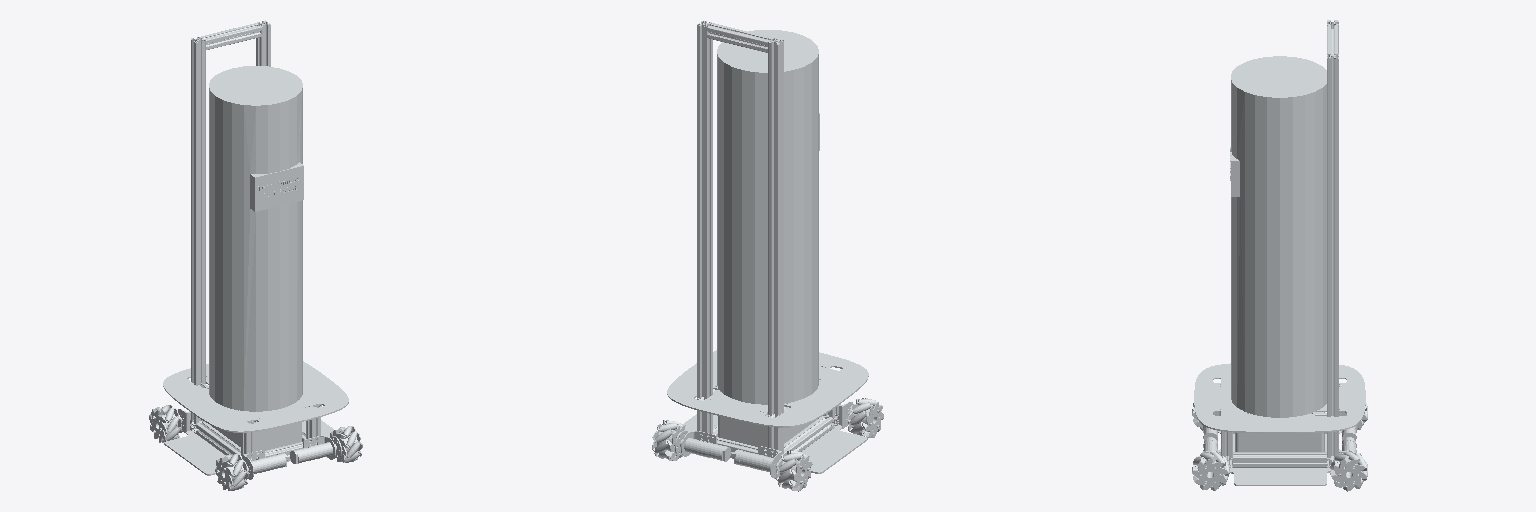
The robot description file, URDF, robot "uv_robot":
<?xml version="1.0" encoding="utf-8"?>
<!-- This URDF was automatically created by SolidWorks to URDF Exporter! Originally created by [author] ([email redacted]) 
     Commit Version: 1.5.1-0-g916b5db  Build Version: 1.5.7152.31018
     For more information, please see http://wiki.ros.org/sw_urdf_exporter -->
<robot
  name="uv_robot">

  <link name="robot_footprint">
  </link> 

  <link
    name="base_link">
    <inertial>
      <origin
        xyz="-2.3463E-06 0.228 -0.0071608"
        rpy="0 0 0" />
      <mass
        value="1" />
      <inertia
        ixx="0.22238"
        ixy="-1.8058E-07"
        ixz="-2.4839E-06"
        iyy="0.099832"
        iyz="-0.0022073"
        izz="0.21419" />
    </inertial>
    <visual>
      <origin
        xyz="0 0 0"
        rpy="0 0 0" />
      <geometry>
        <mesh
          filename="package://uvd_description/meshes/new_base_link.STL" />
      </geometry>
      <material
        name="">
        <color
          rgba="0.89804 0.91765 0.92941 1" />
      </material>
    </visual>
    <collision>
      <origin
        xyz="0 0 0"
        rpy="0 0 0" />
      <geometry>
        <mesh
          filename="package://uvd_description/meshes/new_base_link.STL" />
      </geometry>
    </collision>
  </link>

   <joint name="robot_footprint_joint" type="fixed">
    <parent link="robot_footprint"/>
    <child link="base_link"/>
    <origin xyz="0 0 0" rpy="0 0 0" />
 </joint>
 
  <link
    name="RF_Link">
    <inertial>
      <origin
        xyz="-0.012173 0.0039505 0.026007"
        rpy="0 0 0" />
      <mass
        value="0.1" />
      <inertia
        ixx="0.00012799"
        ixy="-4.0847E-10"
        ixz="1.4585E-10"
        iyy="0.00012799"
        iyz="5.1701E-10"
        izz="0.00019475" />
    </inertial>
    <visual>
      <origin
        xyz="0 0 0"
        rpy="0 0 0" />
      <geometry>
        <mesh
          filename="package://uvd_description/meshes/RF_Link.STL" />
      </geometry>
      <material
        name="">
        <color
          rgba="0.89804 0.91765 0.92941 1" />
      </material>
    </visual>
    <collision>
      <origin
        xyz="0 0 0"
        rpy="0 0 0" />
      <geometry>
        <mesh
          filename="package://uvd_description/meshes/RF_Link.STL" />
      </geometry>
    </collision>
  </link>
  <joint
    name="joint_rf"
    type="fixed">
    <origin
      xyz="-0.148119970352197 -0.162879572443269 0.0458883267180475"
      rpy="-1.5707963267949 0.641104313859877 1.5707963267949" />
    <parent
      link="base_link" />
    <child
      link="RF_Link" />
    <axis
      xyz="0 0 0" />
  </joint>
  <link
    name="LF_Link">
    <inertial>
      <origin
        xyz="-0.012173 0.0039539 0.026009"
        rpy="0 0 0" />
      <mass
        value="0.1" />
      <inertia
        ixx="0.00012799"
        ixy="-4.0494E-10"
        ixz="1.7015E-10"
        iyy="0.00012799"
        iyz="5.1344E-10"
        izz="0.00019475" />
    </inertial>
    <visual>
      <origin
        xyz="0 0 0"
        rpy="0 0 0" />
      <geometry>
        <mesh
          filename="package://uvd_description/meshes/LF_Link.STL" />
      </geometry>
      <material
        name="">
        <color
          rgba="0.89804 0.91765 0.92941 1" />
      </material>
    </visual>
    <collision>
      <origin
        xyz="0 0 0"
        rpy="0 0 0" />
      <geometry>
        <mesh
          filename="package://uvd_description/meshes/LF_Link.STL" />
      </geometry>
    </collision>
  </link>
  <joint
    name="joint_lf"
    type="fixed">
    <origin
      xyz="0.148119970352196 -0.16287957244327 0.0541116732819477"
      rpy="1.5707963267949 -0.641104313859881 1.57079632679489" />
    <parent
      link="base_link" />
    <child
      link="LF_Link" />
    <axis
      xyz="0 0 0" />
  </joint>
  <link
    name="LB_Link">
    <inertial>
      <origin
        xyz="-0.012181 -0.0039405 -0.025889"
        rpy="0 0 0" />
      <mass
        value="0.1" />
      <inertia
        ixx="0.00012799"
        ixy="4.0647E-10"
        ixz="-1.7085E-10"
        iyy="0.00012799"
        iyz="5.1777E-10"
        izz="0.00019475" />
    </inertial>
    <visual>
      <origin
        xyz="0 0 0"
        rpy="0 0 0" />
      <geometry>
        <mesh
          filename="package://uvd_description/meshes/LB_Link.STL" />
      </geometry>
      <material
        name="">
        <color
          rgba="0.89804 0.91765 0.92941 1" />
      </material>
    </visual>
    <collision>
      <origin
        xyz="0 0 0"
        rpy="0 0 0" />
      <geometry>
        <mesh
          filename="package://uvd_description/meshes/LB_Link.STL" />
      </geometry>
    </collision>
  </link>
  <joint
    name="joint_lb"
    type="fixed">
    <origin
      xyz="0.200000000000001 0.162827142693936 0.0460462465501888"
      rpy="-1.5707963267949 0 -1.5707963267949" />
    <parent
      link="base_link" />
    <child
      link="LB_Link" />
    <axis
      xyz="0 0 0" />
  </joint>
  <link
    name="RB_Link">
    <inertial>
      <origin
        xyz="-0.012173 0.0039539 0.026009"
        rpy="0 0 0" />
      <mass
        value="0.1" />
      <inertia
        ixx="0.00012799"
        ixy="-4.0494E-10"
        ixz="1.7015E-10"
        iyy="0.00012799"
        iyz="5.1344E-10"
        izz="0.00019475" />
    </inertial>
    <visual>
      <origin
        xyz="0 0 0"
        rpy="0 0 0" />
      <geometry>
        <mesh
          filename="package://uvd_description/meshes/RB_Link.STL" />
      </geometry>
      <material
        name="">
        <color
          rgba="0.89804 0.91765 0.92941 1" />
      </material>
    </visual>
    <collision>
      <origin
        xyz="0 0 0"
        rpy="0 0 0" />
      <geometry>
        <mesh
          filename="package://uvd_description/meshes/RB_Link.STL" />
      </geometry>
    </collision>
  </link>
  <joint
    name="joint_rb"
    type="fixed">
    <origin
      xyz="-0.148119970352196 0.162879572443268 0.054111673281953"
      rpy="1.5707963267949 -0.64110431385987 -1.5707963267949" />
    <parent
      link="base_link" />
    <child
      link="RB_Link" />
    <axis
      xyz="0 0 0" />
  </joint>
</robot>

--- What the picture shows (computed from the rendered views, not written in the file) ---
The picture shows the robot from 3 angles, left to right: view 1: azimuth 30°, elevation 25°; view 2: azimuth 150°, elevation 25°; view 3: azimuth 270°, elevation 25°; orthographic projection.
Robot: uv_robot — 6 links, 5 joints (5 fixed); root link robot_footprint; default pose: every joint at zero.
Links seen in each view (by area): view 1: base_link, RF_Link, RB_Link, LF_Link; view 2: base_link, RB_Link, RF_Link, LB_Link; view 3: base_link, LF_Link, LB_Link.
Boxes of the visible links, left/top/right/bottom form: base_link: left=163, top=20, right=348, bottom=479; RF_Link: left=215, top=454, right=248, bottom=490; RB_Link: left=149, top=405, right=182, bottom=442; LF_Link: left=330, top=426, right=362, bottom=462; base_link: left=667, top=21, right=868, bottom=478; RB_Link: left=775, top=450, right=812, bottom=491; RF_Link: left=847, top=398, right=883, bottom=437; LB_Link: left=652, top=420, right=687, bottom=460; base_link: left=1194, top=20, right=1365, bottom=485; LF_Link: left=1192, top=451, right=1229, bottom=490; LB_Link: left=1330, top=450, right=1367, bottom=491.
Bounding box of the posed robot: 0.432 × 0.4461 × 1.17 m (x, y, z).
5 mesh visuals loaded from 5 distinct referenced files (5 binary STL).